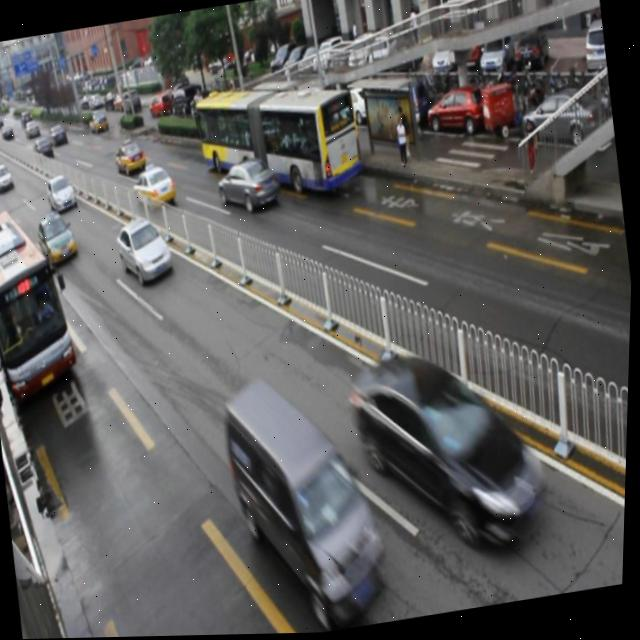car: (348, 339, 562, 574), (115, 214, 177, 287), (215, 157, 283, 216), (38, 210, 81, 266), (131, 163, 178, 212), (113, 138, 149, 177), (46, 175, 80, 213)
truck: (218, 369, 397, 628)
van: (191, 70, 367, 214), (0, 206, 86, 402)
